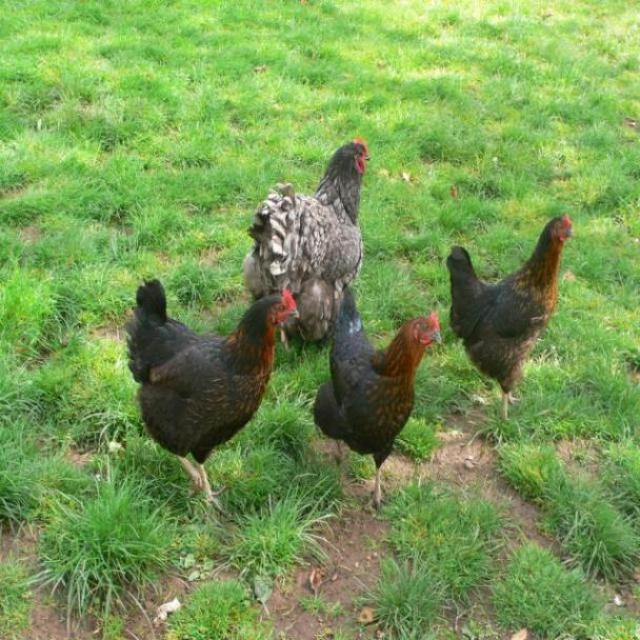Chicken: (126, 274, 298, 512), (307, 278, 447, 523), (441, 208, 579, 427), (237, 135, 372, 356)
